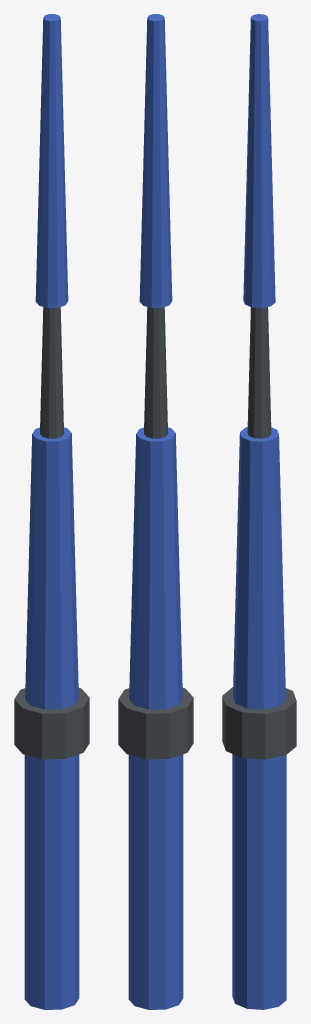
The model's file is Dropship_05_Antenna_Blue.fbx.
3 views of the same model, side by side, from view 1: azimuth 30°, elevation 25°; view 2: azimuth 210°, elevation 25°; view 3: azimuth 270°, elevation 25° (orthographic).
Parts seen in each view (by area): view 1: Dropship_05_Antenna_Blue; view 2: Dropship_05_Antenna_Blue; view 3: Dropship_05_Antenna_Blue.
Part boxes in pixels (<box>): Dropship_05_Antenna_Blue: <box>14,14,89,1009</box>; Dropship_05_Antenna_Blue: <box>118,14,193,1009</box>; Dropship_05_Antenna_Blue: <box>222,14,296,1009</box>.
Bounding box in the file's own units: 18.18 × 264 × 18.17.
1 material, 1 textured.
